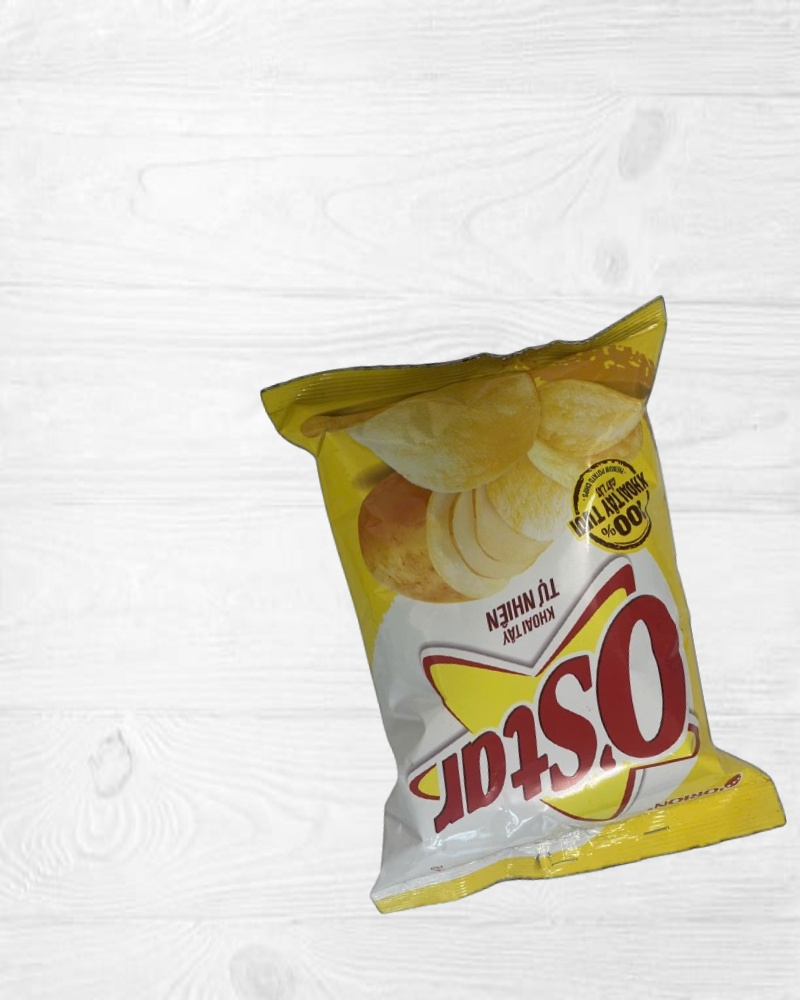Snack cua: (263, 297, 787, 912)
